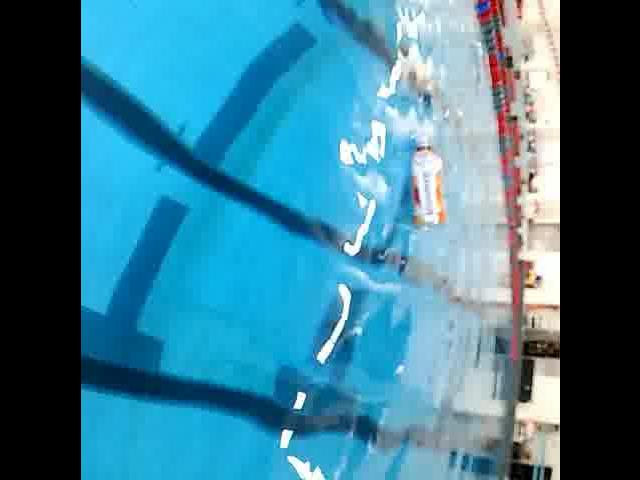Bottle: (402, 126, 454, 232)
